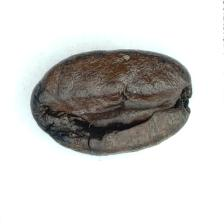NG: (31, 76, 159, 155)
